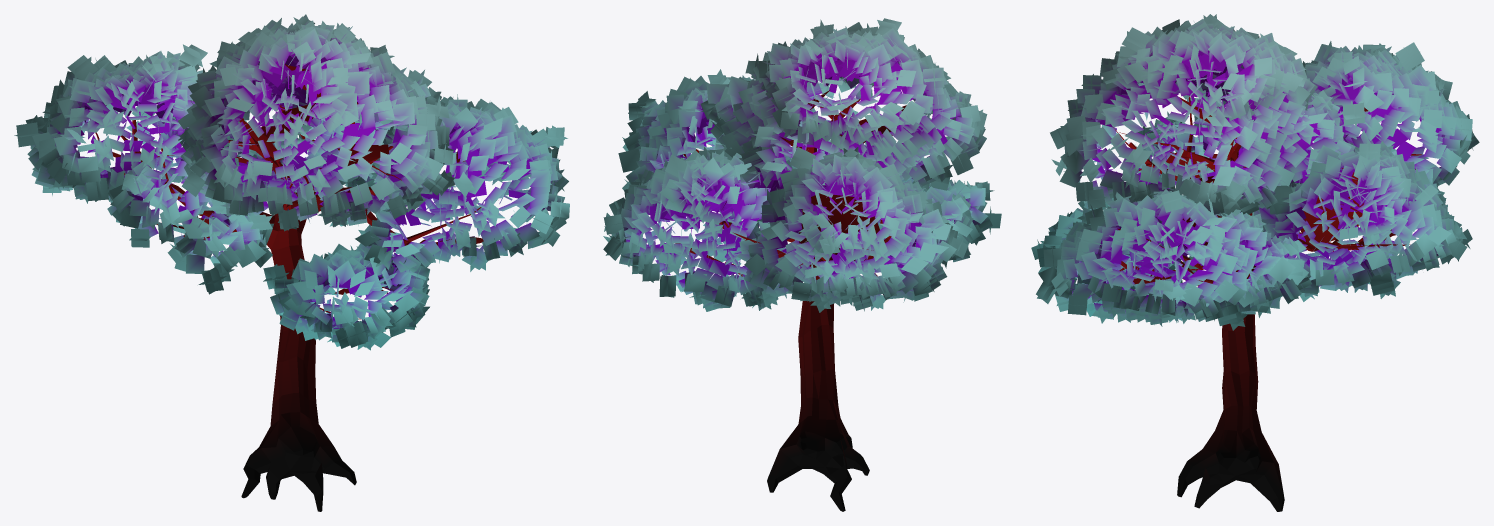
The model's file is SM_Env_Tree_Forest_03.glb.
3 renders of one model, left to right at view 1: azimuth 30°, elevation 25°; view 2: azimuth 150°, elevation 25°; view 3: azimuth 270°, elevation 25°, orthographic. The views are drawn at different scales.
Visible parts, largest first — view 1: SM_Env_Tree_Forest_03_LOD0, SM_Env_Tree_Forest_03_Branches_LOD0; view 2: SM_Env_Tree_Forest_03_LOD0, SM_Env_Tree_Forest_03_Branches_LOD0; view 3: SM_Env_Tree_Forest_03_LOD0, SM_Env_Tree_Forest_03_Branches_LOD0.
Part boxes in pixels (x1,y1,x2,y2): SM_Env_Tree_Forest_03_LOD0: (14, 14, 569, 511); SM_Env_Tree_Forest_03_Branches_LOD0: (95, 64, 483, 319); SM_Env_Tree_Forest_03_LOD0: (603, 18, 1001, 511); SM_Env_Tree_Forest_03_Branches_LOD0: (675, 85, 906, 276); SM_Env_Tree_Forest_03_LOD0: (1031, 14, 1479, 511); SM_Env_Tree_Forest_03_Branches_LOD0: (1102, 95, 1415, 284).
Size of what is drawn, in the model's own units: 9.64 by 10.11 by 8.67.
